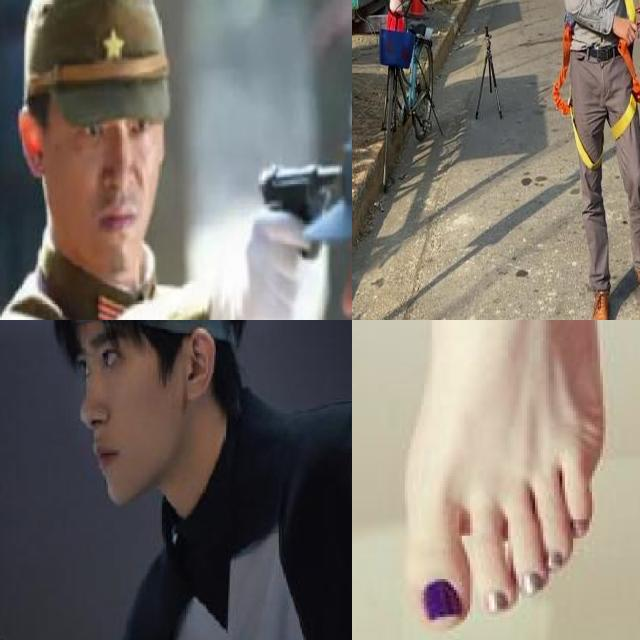Harness: (599, 40, 640, 140), (553, 17, 575, 116), (573, 119, 602, 170)
No_Ear-Protection: (12, 105, 56, 175)
face_nomask: (48, 81, 168, 263), (80, 320, 175, 506)
hand_glove: (237, 209, 310, 320)
head_nohelmet: (7, 0, 190, 132)
person: (0, 320, 352, 640), (0, 0, 290, 320), (264, 49, 352, 320)
